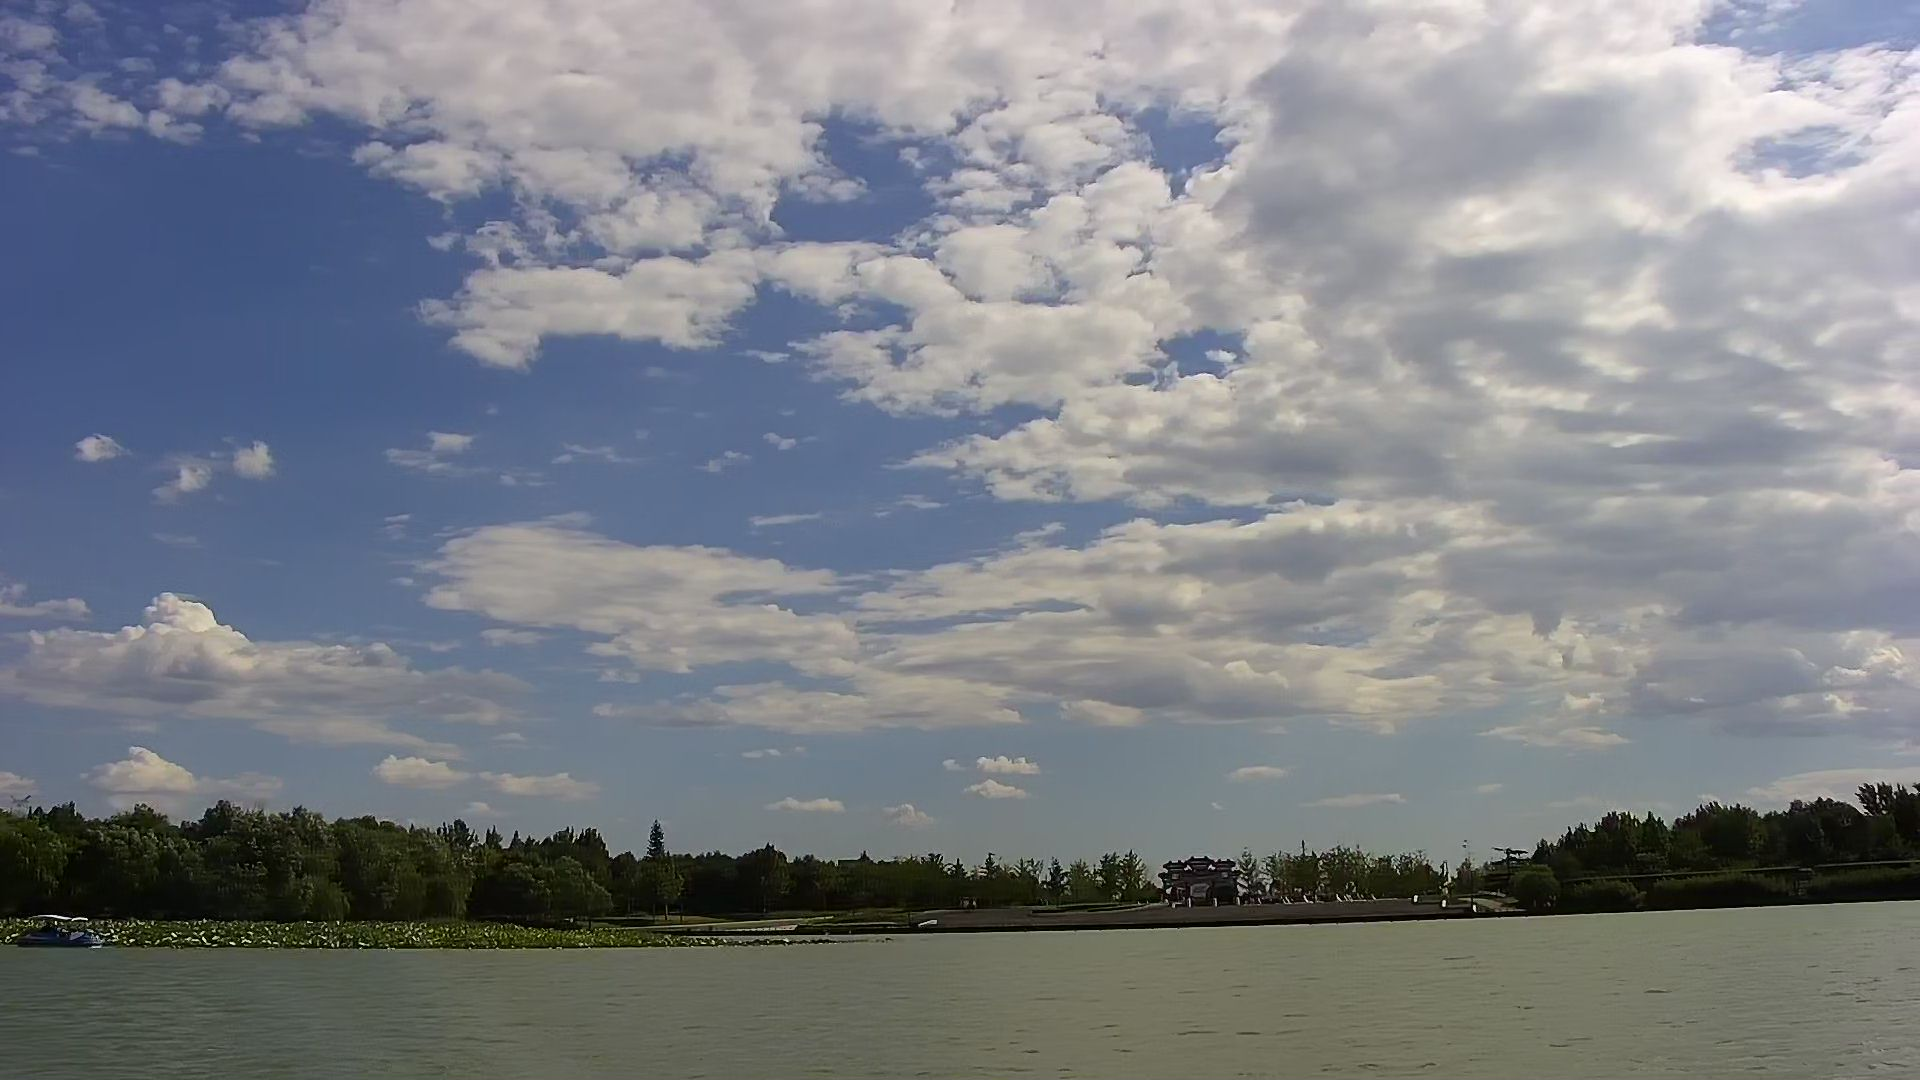boat: (15, 913, 109, 953)
harbor: (876, 889, 1531, 928)
